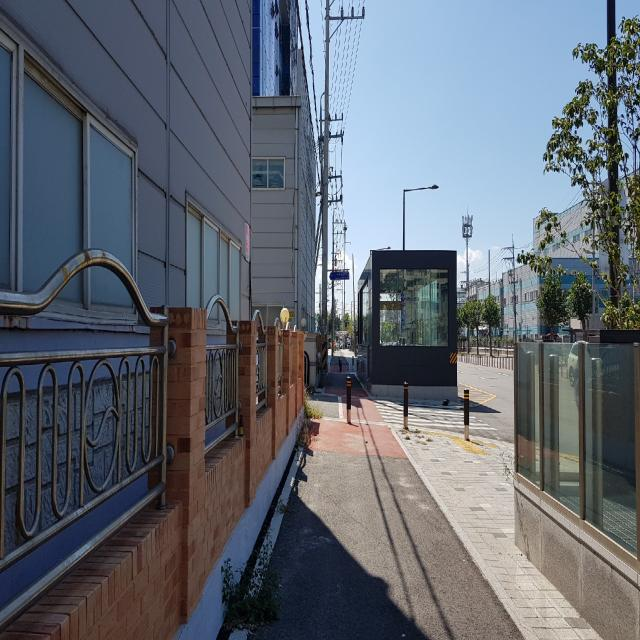횡단보도: (373, 399, 498, 431)
